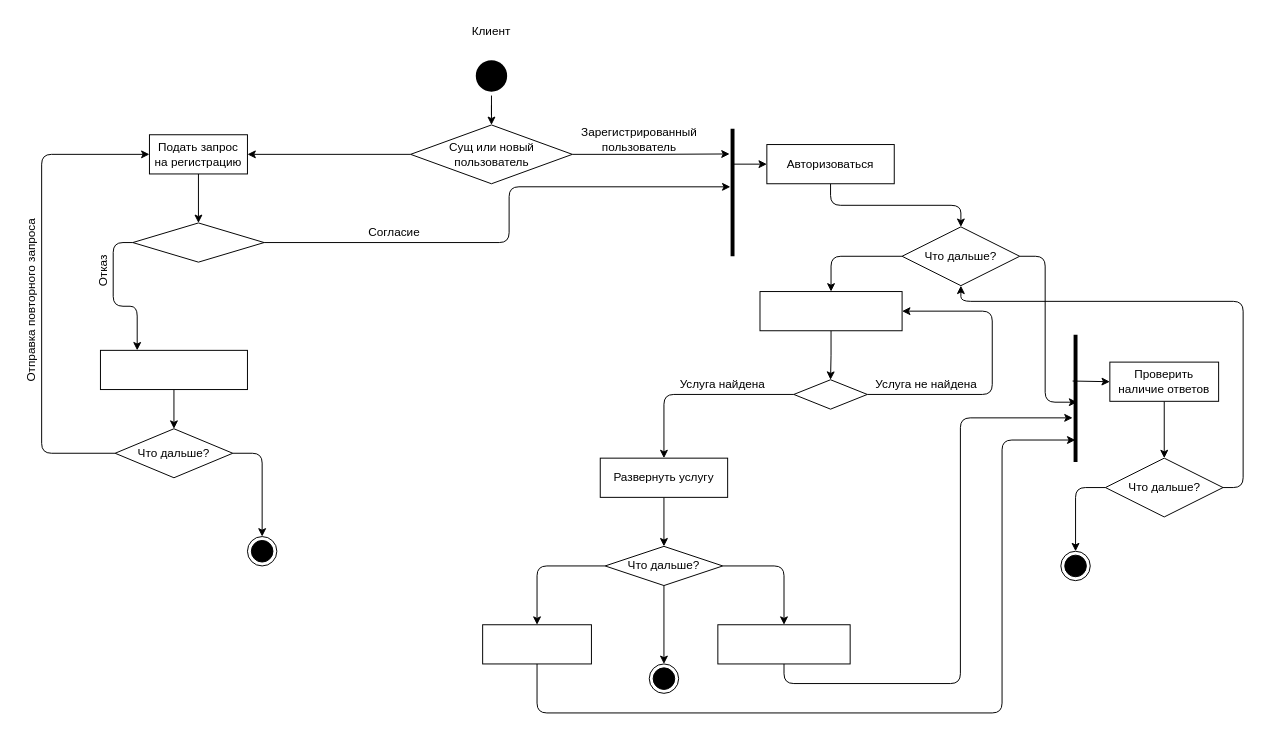
The diagram is 1268 pixels wide and 738 high, and some of its shapes have lost their labels. The shapes that lost their labels are listed below. From the top down, each one's centre as x and y in pixels, then its label:
pixel 198 242: Ответ
pixel 830 311: Просмотр списка услуг
pixel 173 369: Ознакомление с причиной отказа регистрации
pixel 536 644: Оставить вопрос по услуге
pixel 783 644: Отправить запрос на получение
